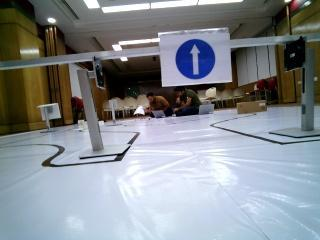straight: (157, 34, 234, 85)
